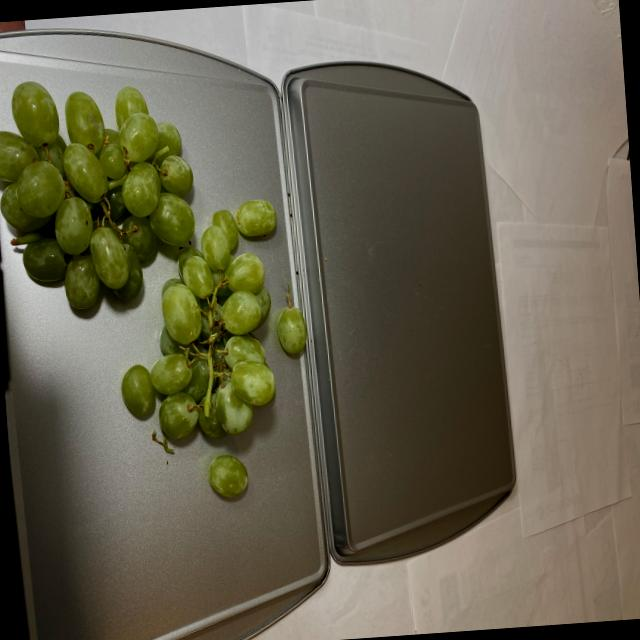grapes: (0, 58, 318, 517)
